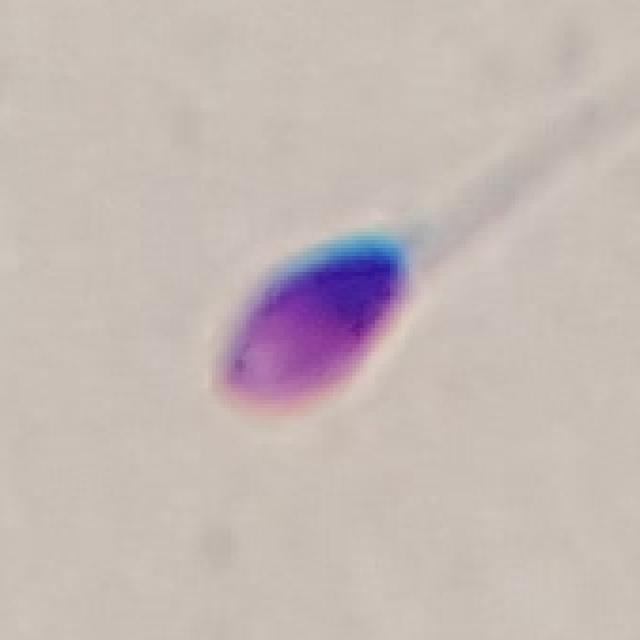normal sperm: (202, 146, 572, 422)
